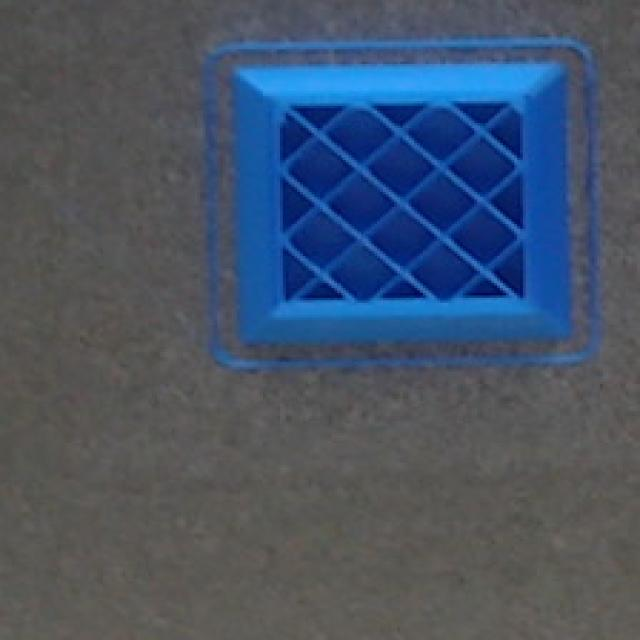noMistake: (228, 51, 584, 349)
